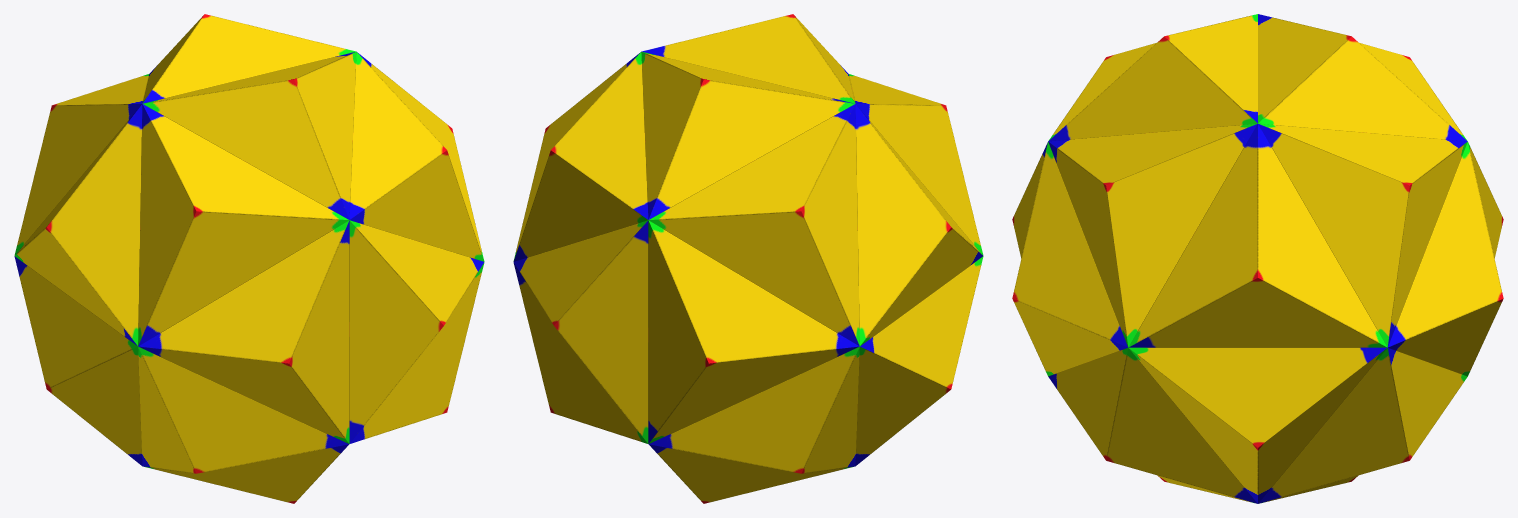
The model's file is small-triambic-icosahedron.gltf.
3 views of the same model, side by side, from view 1: azimuth 30°, elevation 25°; view 2: azimuth 150°, elevation 25°; view 3: azimuth 270°, elevation 25° (orthographic). The views are drawn at different scales.
Visible parts, largest first — view 1: Small Triambic Icosahedron (Dual of 5/2.3.5/2.3.5/2.3), WD70; view 2: Small Triambic Icosahedron (Dual of 5/2.3.5/2.3.5/2.3), WD70; view 3: Small Triambic Icosahedron (Dual of 5/2.3.5/2.3.5/2.3), WD70.
Boxes of the visible parts, x1,y1,x2,y2 form: Small Triambic Icosahedron (Dual of 5/2.3.5/2.3.5/2.3), WD70: [14, 14, 484, 503]; Small Triambic Icosahedron (Dual of 5/2.3.5/2.3.5/2.3), WD70: [513, 14, 983, 503]; Small Triambic Icosahedron (Dual of 5/2.3.5/2.3.5/2.3), WD70: [1012, 14, 1503, 503].
Size of the model in its own units: 23.16 by 23.16 by 23.16.
1 material, 1 textured.
